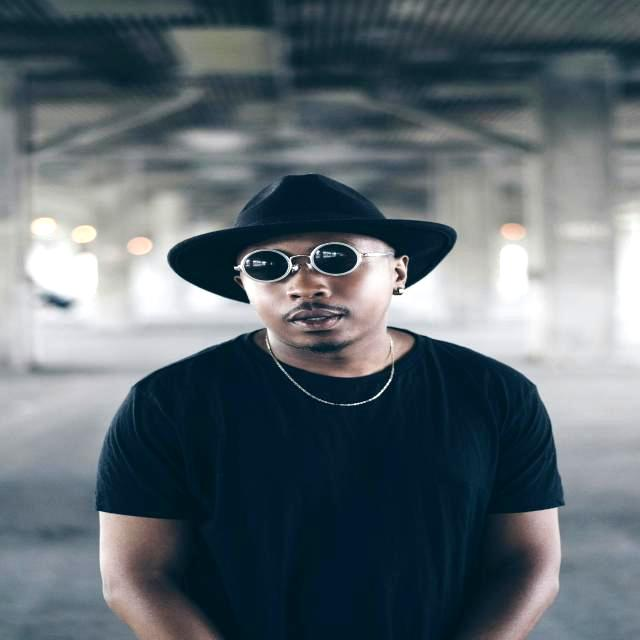no_hard_hat: (168, 174, 456, 302)
person: (96, 174, 564, 640)
